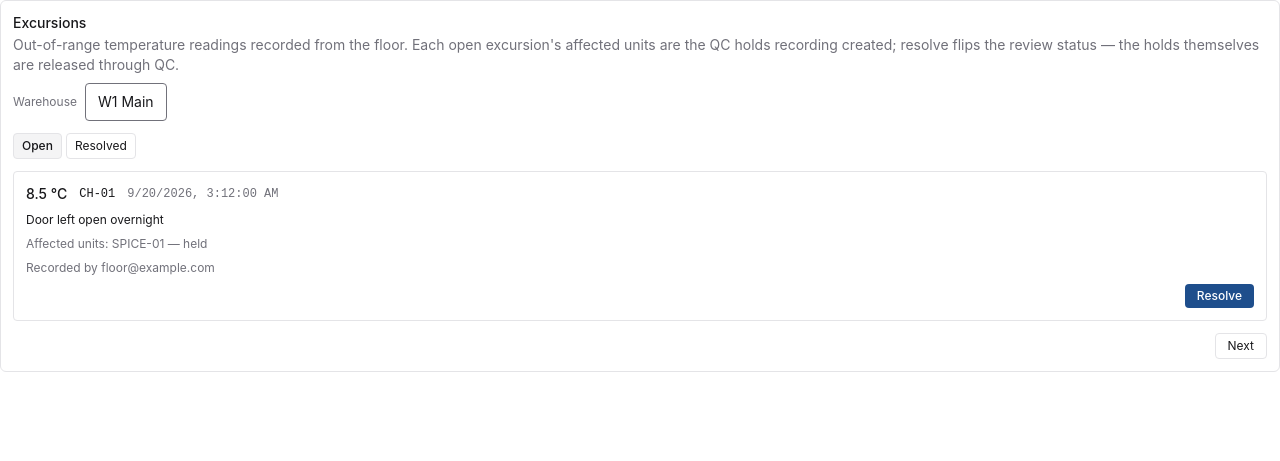
it: ExcursionQueue: the resolve flow (story 12-7) › resolve POSTs with an Idempotency-Key, banners the success, and re-reads the queue
Step 1. Click the button "Resolve" → (1219, 296), box [1185, 284, 1254, 308]
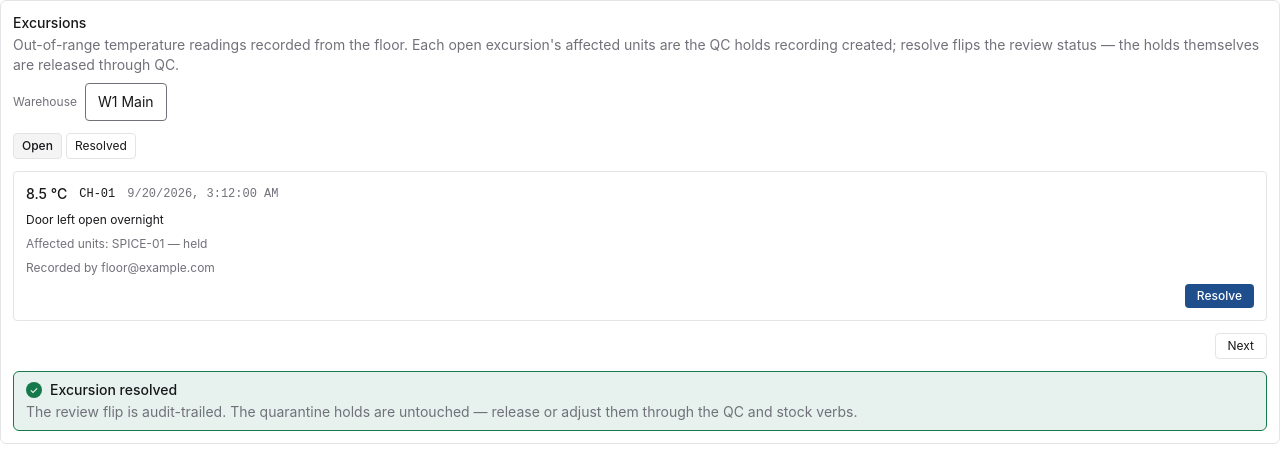
Now the text "Excursion resolved" is shown, box [50, 381, 177, 398]
Now the text "quarantine holds are untouched" is shown, box [26, 403, 858, 420]
